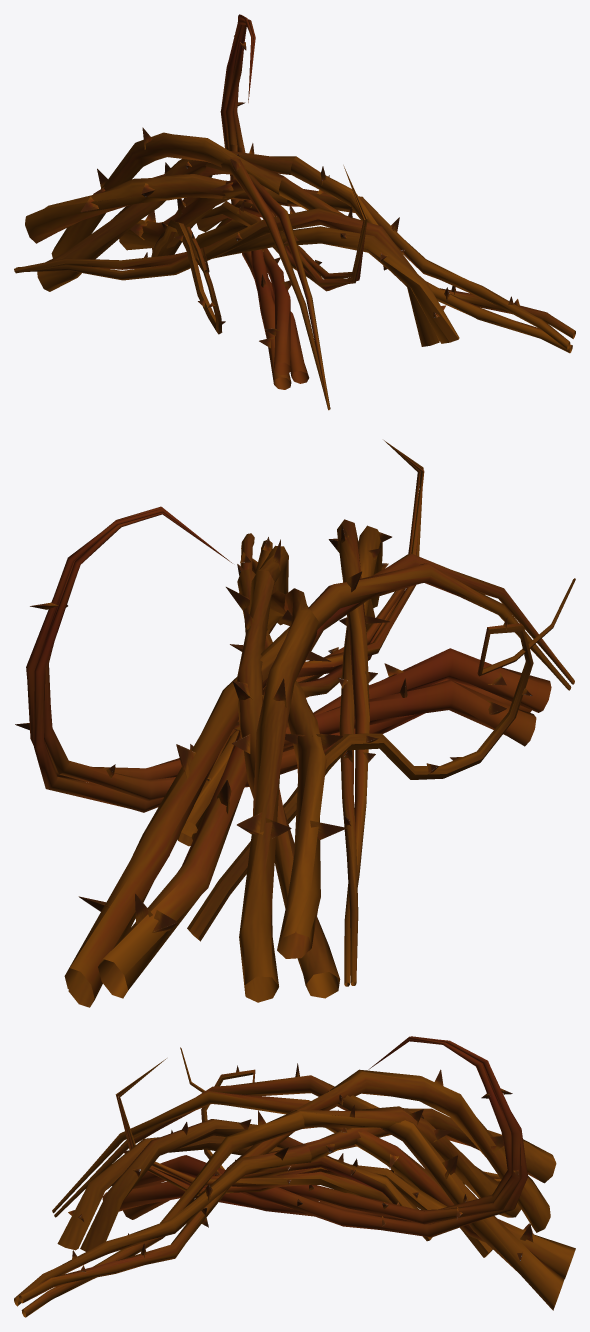
File: Thorn_wall.fbx
3 renders of one model, top to bottom at view 1: azimuth 30°, elevation 25°; view 2: azimuth 150°, elevation 25°; view 3: azimuth 270°, elevation 25°, orthographic. The views are drawn at different scales.
Parts seen in each view (by area): view 1: Thorn_vine1; view 2: Thorn_vine1; view 3: Thorn_vine1.
Boxes of the visible parts, bbox=[...] form: Thorn_vine1: bbox=[14, 14, 575, 410]; Thorn_vine1: bbox=[15, 440, 575, 1007]; Thorn_vine1: bbox=[14, 1036, 575, 1317].
Size of the model in its own units: 31.53 by 26.2 by 47.08.
